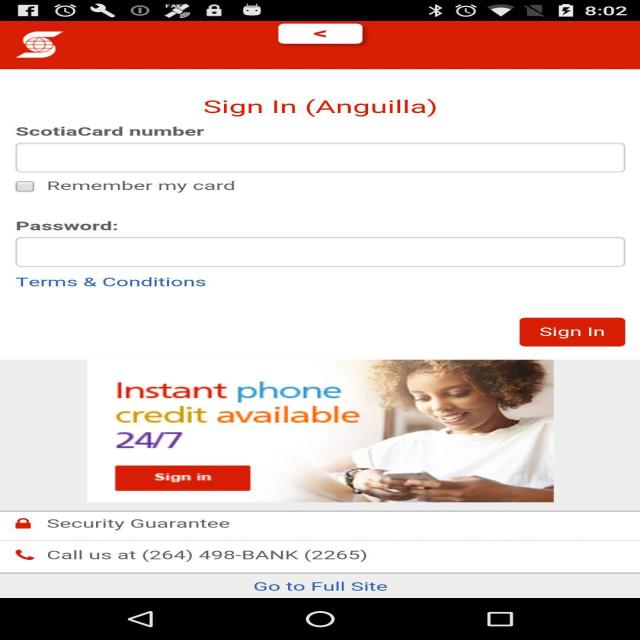button: (19, 143, 556, 173), (30, 238, 538, 264), (4, 540, 395, 567), (0, 511, 308, 538), (495, 306, 640, 348), (8, 274, 286, 291), (237, 582, 459, 601), (255, 23, 377, 49), (10, 178, 38, 192)
icon: (8, 358, 622, 506), (16, 28, 84, 62), (4, 541, 30, 564), (6, 518, 28, 529)
text: (36, 543, 378, 564), (184, 100, 500, 120), (39, 520, 260, 534), (9, 122, 214, 137), (44, 184, 251, 198), (15, 277, 246, 289), (246, 582, 423, 594), (531, 324, 610, 338), (11, 224, 144, 232), (68, 214, 70, 222)
